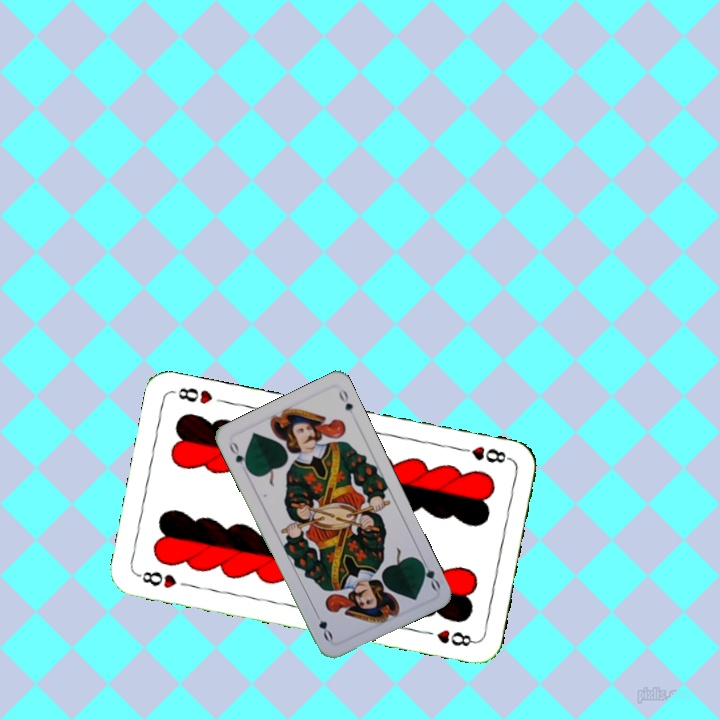GO: (415, 554, 443, 593), (225, 437, 252, 474)
H8: (454, 442, 513, 466), (133, 567, 179, 591)
